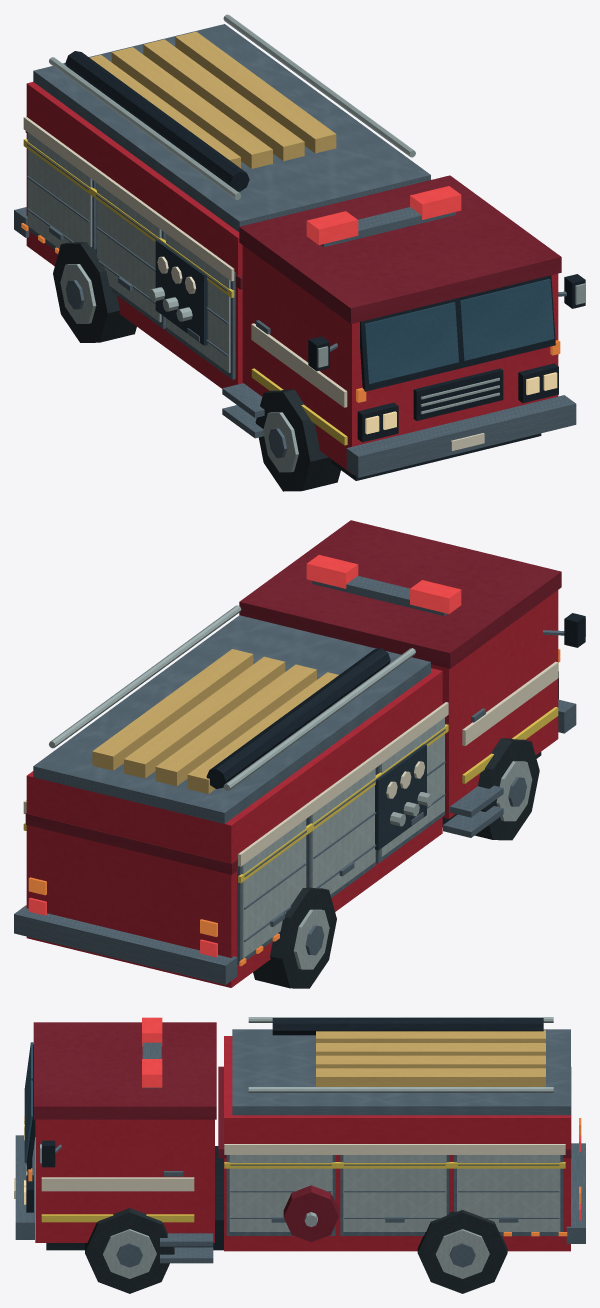
File: engine-pumper-lod.glb
3 renders of one model, top to bottom at view 1: azimuth 30°, elevation 25°; view 2: azimuth 150°, elevation 25°; view 3: azimuth 270°, elevation 25°, orthographic. The views are drawn at different scales.
Visible parts, largest first — view 1: engine-pumper-lod; view 2: engine-pumper-lod; view 3: engine-pumper-lod.
Part boxes in pixels (x1,y1,x2,y2): engine-pumper-lod: [14, 14, 585, 491]; engine-pumper-lod: [14, 520, 585, 988]; engine-pumper-lod: [14, 1017, 585, 1293].
Size of the model in its own units: 3.06 by 2.66 by 6.84.
Materials: 4 (4 with a texture image).
